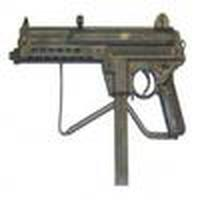gun: (6, 16, 189, 150)
